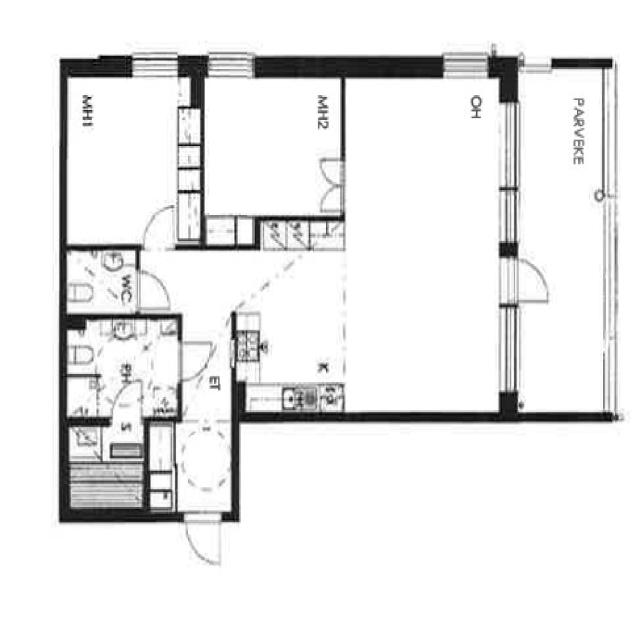door: (180, 512, 224, 570), (497, 256, 554, 300), (139, 200, 179, 254), (174, 334, 215, 386), (108, 378, 146, 426), (133, 267, 172, 313), (316, 156, 348, 210)
window: (493, 98, 526, 250), (595, 65, 622, 199), (497, 298, 522, 400), (203, 44, 261, 79), (436, 46, 494, 79), (495, 184, 523, 248), (125, 46, 184, 76), (226, 338, 238, 374)
zone: (343, 67, 509, 418), (62, 68, 202, 248), (200, 68, 344, 225), (238, 246, 345, 415), (63, 316, 183, 417), (63, 421, 149, 518), (62, 246, 141, 318)
